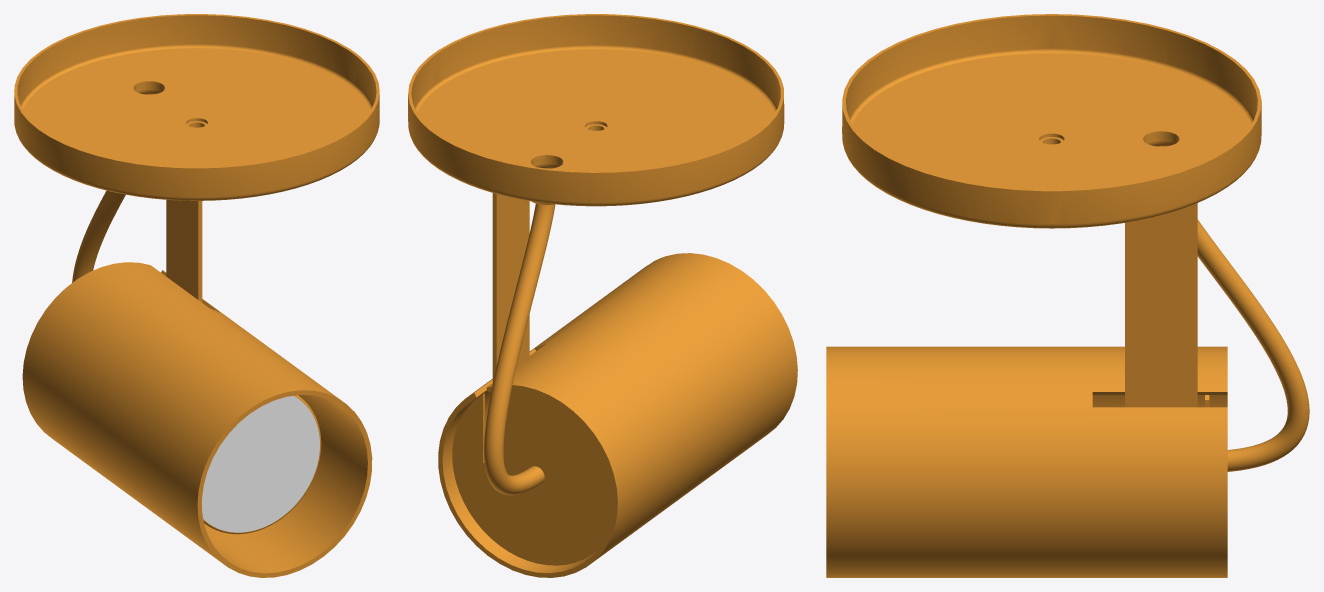
The model's file is LisseSolutionIISpot.glb.
3 renders of one model, left to right at view 1: azimuth 30°, elevation 25°; view 2: azimuth 150°, elevation 25°; view 3: azimuth 270°, elevation 25°, orthographic. The views are drawn at different scales.
Parts seen in each view (by area): view 1: 3DGeom-1, 3DGeom-9, 3DGeom-8, 3DGeom-12, 3DGeom-3, 3DGeom-7; view 2: 3DGeom-9, 3DGeom-1, 3DGeom-11, 3DGeom-3, 3DGeom-12; view 3: 3DGeom-1, 3DGeom-9, 3DGeom-12, 3DGeom-3.
Boxes of the visible parts, x1,y1,x2,y2 form: 3DGeom-1: [22, 262, 372, 577]; 3DGeom-9: [14, 14, 379, 200]; 3DGeom-8: [202, 395, 319, 532]; 3DGeom-12: [134, 84, 202, 302]; 3DGeom-3: [72, 190, 125, 282]; 3DGeom-7: [203, 395, 321, 534]; 3DGeom-9: [408, 14, 784, 206]; 3DGeom-1: [438, 253, 797, 577]; 3DGeom-11: [452, 389, 613, 565]; 3DGeom-3: [484, 203, 555, 495]; 3DGeom-12: [492, 158, 562, 382]; 3DGeom-1: [826, 346, 1227, 577]; 3DGeom-9: [842, 14, 1261, 228]; 3DGeom-12: [1125, 134, 1197, 407]; 3DGeom-3: [1197, 219, 1309, 471].
Size of the model in its own units: 0.115 by 0.1422 by 0.1324.
